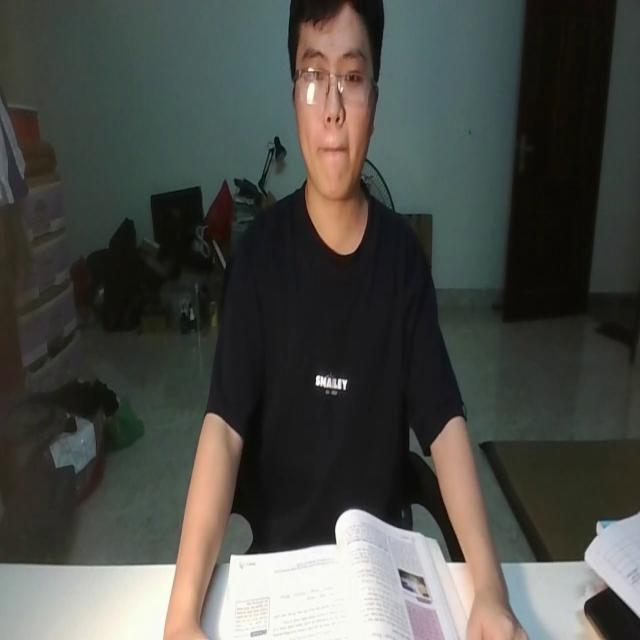book: (215, 506, 466, 640)
student: (163, 0, 530, 640)
